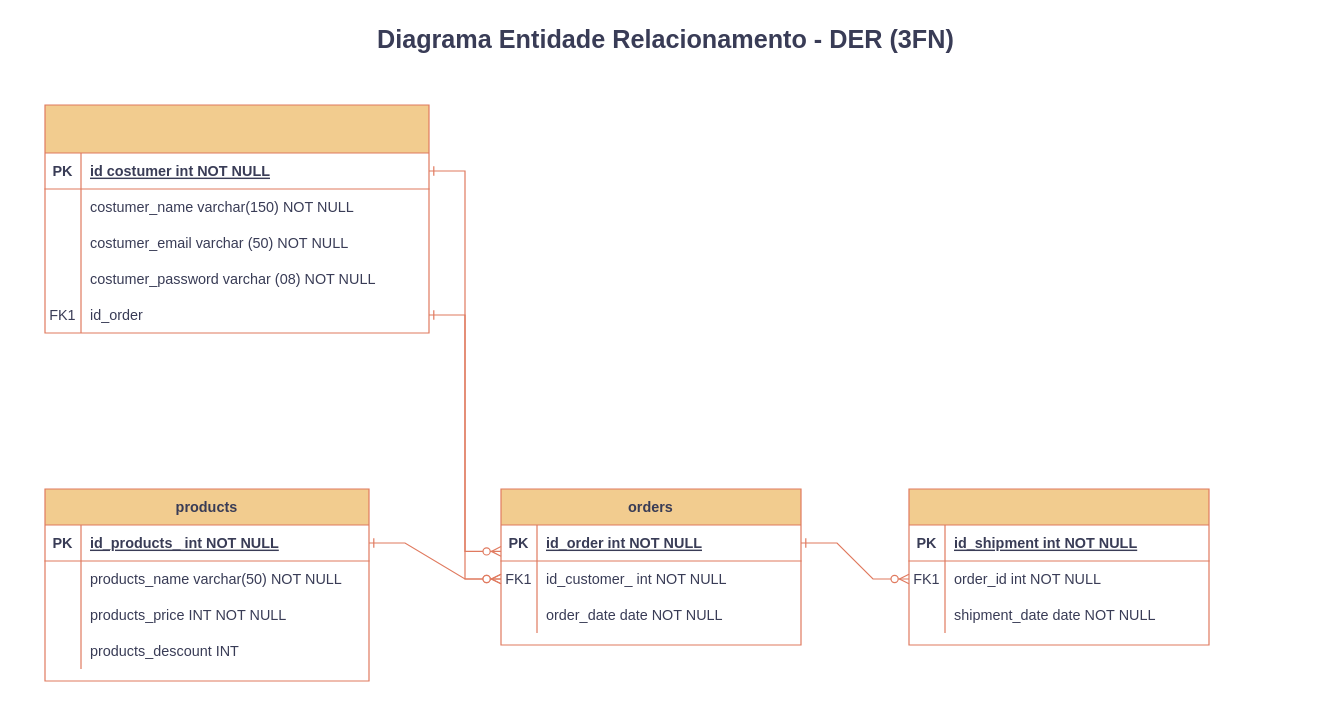
Some shapes in this 1331 by 702 pixel diagram are drawn without their labels. Each missing label, with the box of its shape:
customer: (44, 104, 429, 333)
shipments: (908, 488, 1209, 645)
